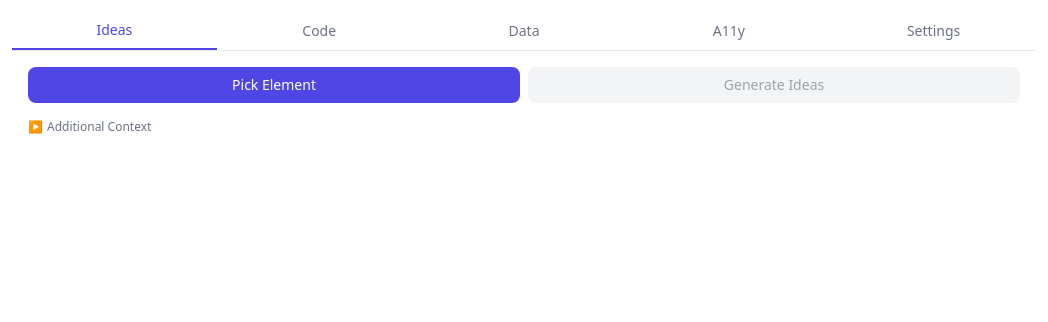
Test case: App › Data tab state persists across tab switches
Switch to Data tab — fields should be visible
What coordinates should you click on to do the following:
click the tab "Data"
I would click on:
 (524, 31)
Its box is [422, 12, 626, 50].
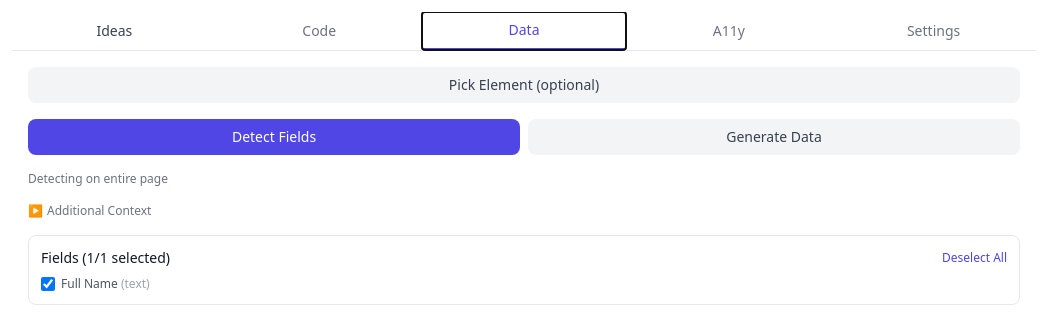
Now the text "Full Name (text)" is shown, box [61, 276, 150, 292]
Switch away to Ideas
What coordinates should you click on to do the following:
click the tab "Ideas"
I would click on:
 (114, 31)
Its box is [12, 12, 217, 50].
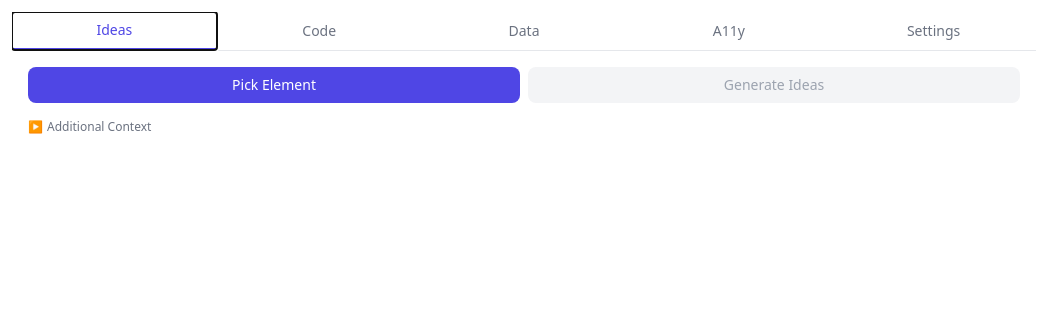
Switch back to Data — fields should still be there
What coordinates should you click on to do the following:
click the tab "Data"
I would click on:
 (524, 31)
Its box is [422, 12, 626, 50].
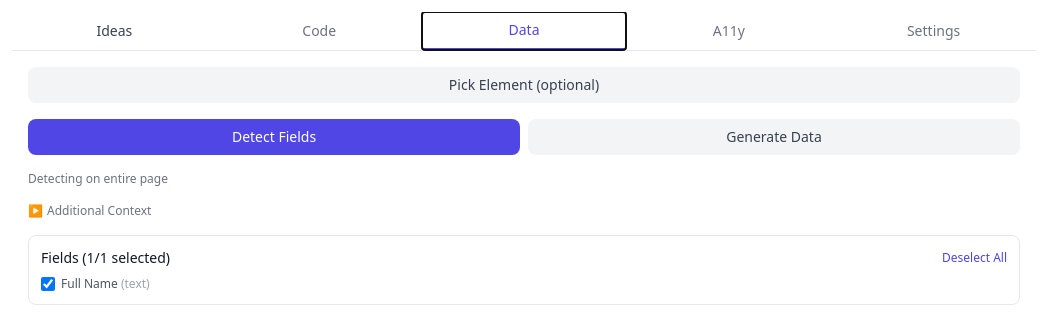
Now the text "Full Name (text)" is shown, box [61, 276, 150, 292]
